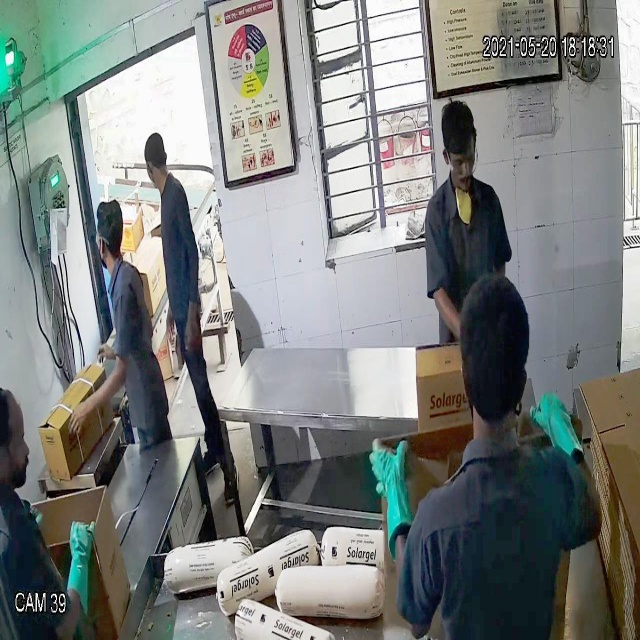Gafas: (443, 147, 483, 179)
Sin_gafas: (1, 425, 32, 463)
